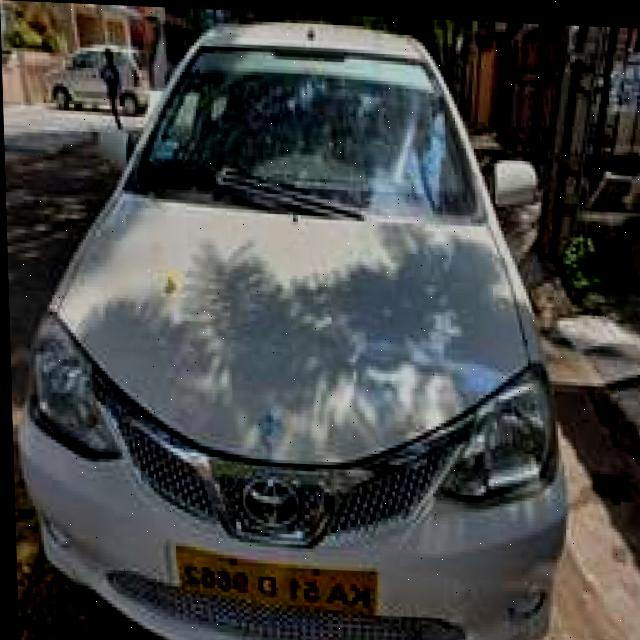plate: (170, 543, 376, 617)
